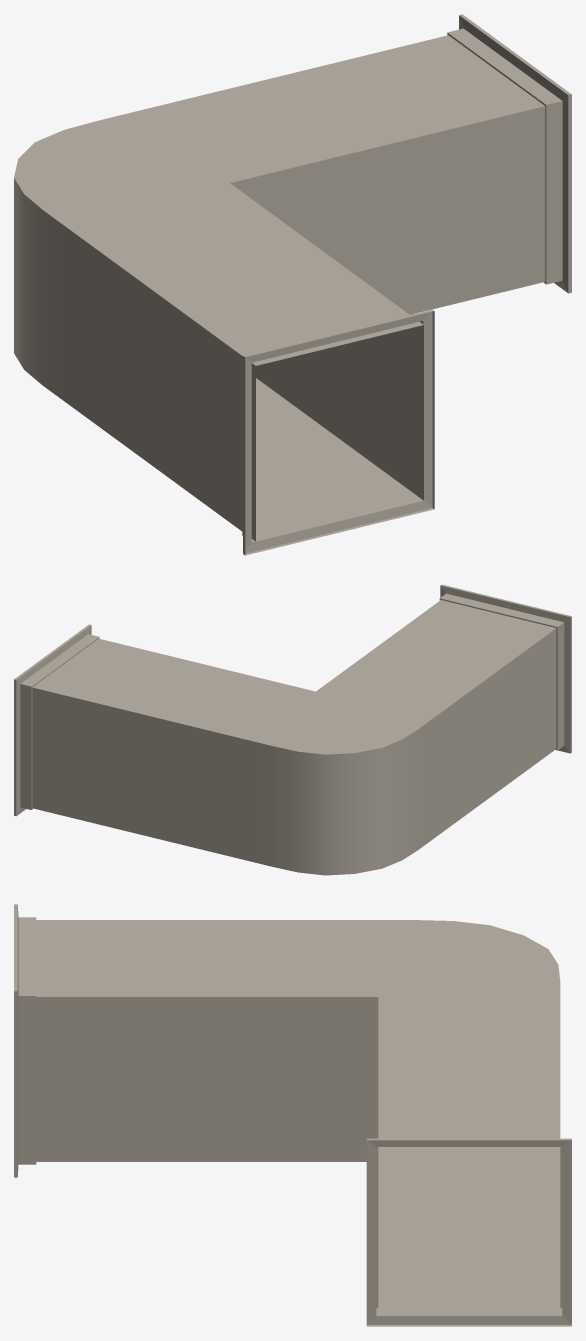
The model's file is SM_Airing_Turn_01.fbx.
3 views of the same model, one above another, from view 1: azimuth 30°, elevation 25°; view 2: azimuth 150°, elevation 25°; view 3: azimuth 270°, elevation 25° (orthographic). The views are drawn at different scales.
Parts seen in each view (by area): view 1: SM_Airing_Turn_01; view 2: SM_Airing_Turn_01; view 3: SM_Airing_Turn_01.
Boxes of the visible parts, box(x1,y1,x2,y2) form: SM_Airing_Turn_01: box(14, 14, 571, 555); SM_Airing_Turn_01: box(14, 584, 571, 875); SM_Airing_Turn_01: box(14, 904, 571, 1326).
Size of the model in its own units: 153 by 56.42 by 153.
Materials: 1 (1 with a texture image).
